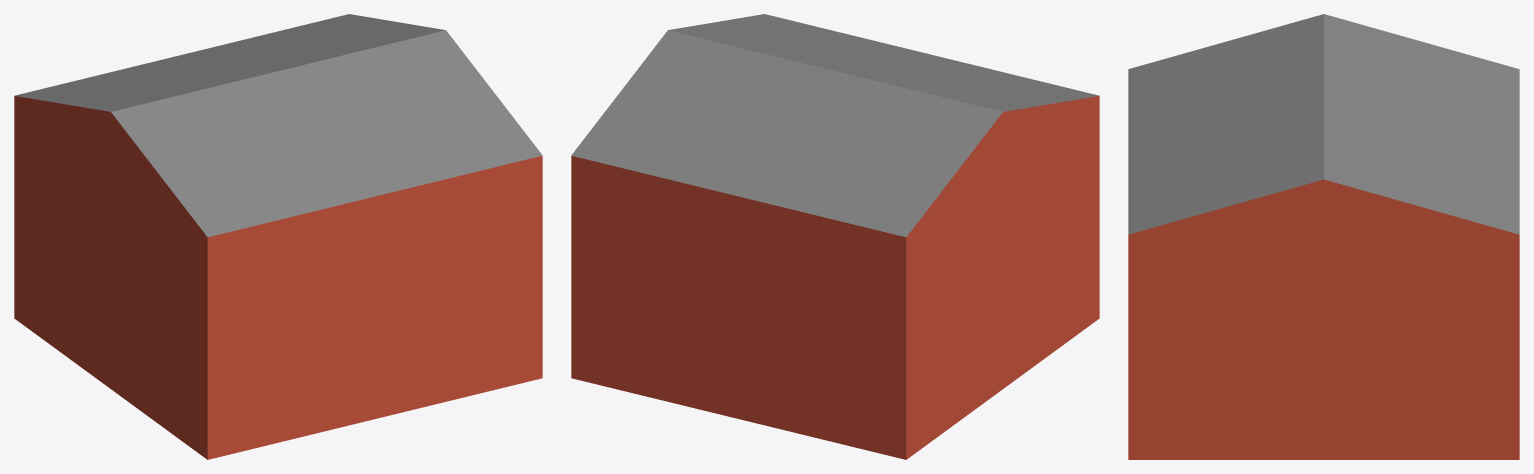
The model's file is Bildings Backgrounds 3.fbx.
3 renders of one model, left to right at view 1: azimuth 30°, elevation 25°; view 2: azimuth 150°, elevation 25°; view 3: azimuth 270°, elevation 25°, orthographic.
Visible parts, largest first — view 1: Bildings Backgrounds 3; view 2: Bildings Backgrounds 3; view 3: Bildings Backgrounds 3.
Boxes of the visible parts, x1,y1,x2,y2 form: Bildings Backgrounds 3: [14, 14, 542, 459]; Bildings Backgrounds 3: [571, 14, 1099, 459]; Bildings Backgrounds 3: [1128, 14, 1519, 459].
Size of the model in its own units: 5344 by 4223 by 5344.
